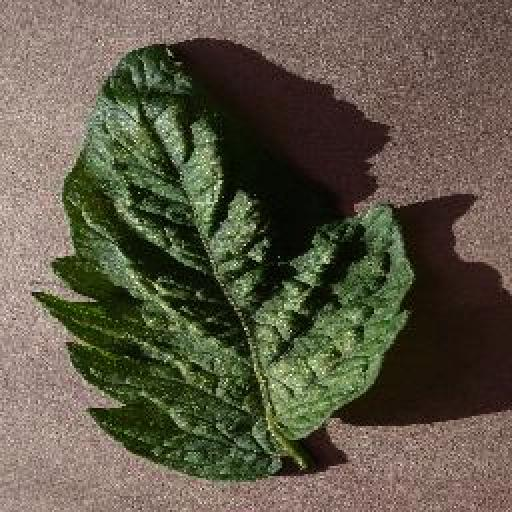disease_tomato: (34, 41, 414, 483)
